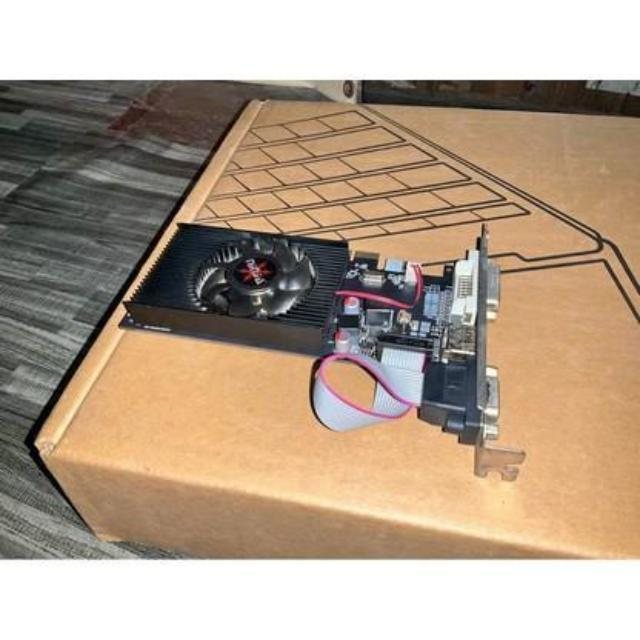GPU: (134, 199, 528, 447)
